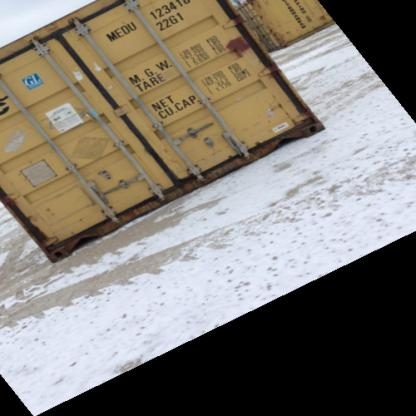Damage: (218, 112, 326, 158), (41, 217, 120, 264), (158, 163, 223, 197), (212, 30, 265, 66)
